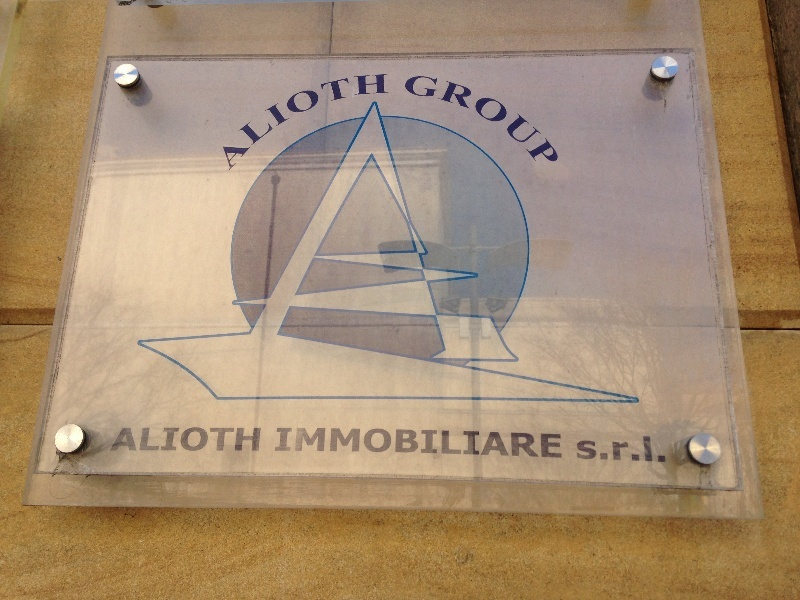text: (625, 99, 641, 403), (145, 99, 160, 403), (161, 99, 176, 403), (177, 99, 192, 403), (193, 99, 208, 403), (209, 99, 224, 403), (225, 99, 240, 403), (241, 99, 256, 403), (257, 99, 272, 403), (273, 99, 288, 403), (289, 99, 304, 403), (305, 99, 320, 403), (321, 99, 336, 403), (337, 99, 352, 403), (353, 99, 368, 403), (369, 99, 384, 403), (385, 99, 400, 403), (401, 99, 416, 403), (417, 99, 432, 403), (433, 99, 448, 403), (449, 99, 464, 403), (465, 99, 480, 403), (481, 99, 496, 403), (497, 99, 512, 403), (513, 99, 528, 403), (529, 99, 544, 403), (545, 99, 560, 403), (561, 99, 576, 403), (577, 99, 592, 403), (593, 99, 608, 403), (609, 99, 624, 403), (134, 99, 144, 403), (561, 43, 577, 169), (417, 43, 432, 169), (433, 43, 448, 169), (449, 43, 464, 169), (465, 43, 480, 169), (481, 43, 496, 169), (497, 43, 512, 169), (513, 43, 528, 169), (529, 43, 544, 169), (545, 43, 560, 169), (225, 50, 240, 172), (241, 50, 256, 172), (257, 50, 272, 172), (273, 50, 288, 172), (289, 50, 304, 172), (305, 50, 320, 172), (321, 50, 336, 172), (337, 50, 352, 172), (353, 50, 368, 172), (369, 50, 384, 172), (219, 50, 224, 172), (412, 43, 416, 169), (289, 427, 304, 460), (305, 427, 320, 460), (321, 427, 336, 460), (337, 427, 352, 460), (353, 427, 368, 460), (369, 427, 384, 460), (385, 427, 400, 460), (401, 427, 416, 460), (417, 427, 432, 460), (433, 427, 448, 460), (449, 427, 464, 460), (465, 427, 480, 460), (481, 427, 496, 460), (497, 427, 512, 460), (513, 427, 528, 460), (529, 427, 544, 460), (545, 427, 560, 460), (385, 50, 389, 172), (593, 436, 608, 465), (609, 436, 624, 465), (625, 436, 640, 465), (641, 436, 656, 465), (578, 436, 592, 465), (129, 427, 144, 452), (145, 427, 160, 452), (161, 427, 176, 452), (177, 427, 192, 452), (193, 427, 208, 452), (209, 427, 224, 452), (225, 427, 240, 452), (241, 427, 256, 452), (277, 427, 288, 460), (657, 436, 669, 465), (123, 427, 128, 452), (257, 427, 262, 452), (561, 427, 562, 460)
